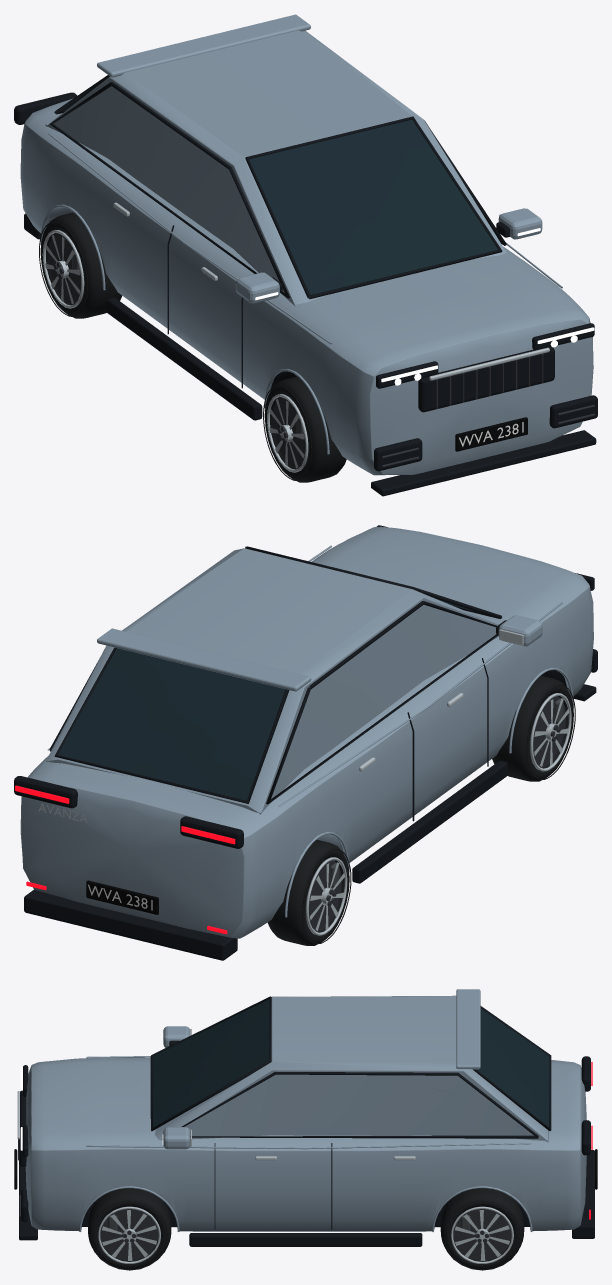
The model's file is avanza.glb.
3 renders of one model, top to bottom at view 1: azimuth 30°, elevation 25°; view 2: azimuth 150°, elevation 25°; view 3: azimuth 270°, elevation 25°, orthographic. The views are drawn at different scales.
Visible parts, largest first — view 1: body__Automotive clearcoat, body__Solar glass, body__Satin black trim, wheel_FL.001__Tyre rubber, wheel_RL.001__Tyre rubber, wheel_FL.001__Machined aluminium, wheel_RL.001__Machined aluminium, wheel_FL.001__Graphite alloy, wheel_RL.001__Graphite alloy, body__Graphite alloy, body__Black registration plate, body__Machined aluminium (+1 smaller); view 2: body__Automotive clearcoat, body__Solar glass, body__Satin black trim, wheel_RL.001__Tyre rubber, wheel_FL.001__Tyre rubber, wheel_FL.001__Machined aluminium, wheel_RL.001__Machined aluminium, wheel_FL.001__Graphite alloy, body__Black registration plate, wheel_RL.001__Graphite alloy, body__Red LED optics, body__Machined aluminium; view 3: body__Automotive clearcoat, body__Solar glass, body__Satin black trim, wheel_FR.001__Tyre rubber, wheel_RR.001__Tyre rubber, wheel_FR.001__Graphite alloy, wheel_RR.001__Graphite alloy, wheel_FR.001__Machined aluminium, wheel_RR.001__Machined aluminium, body__Machined aluminium.
Part boxes in pixels (<box>): body__Automotive clearcoat: <box>20,14,593,475</box>; body__Solar glass: <box>63,94,499,297</box>; body__Satin black trim: <box>14,75,597,496</box>; wheel_FL.001__Tyre rubber: <box>263,376,346,482</box>; wheel_RL.001__Tyre rubber: <box>39,212,121,318</box>; wheel_FL.001__Machined aluminium: <box>267,394,308,472</box>; wheel_RL.001__Machined aluminium: <box>42,230,84,308</box>; wheel_FL.001__Graphite alloy: <box>272,397,308,468</box>; wheel_RL.001__Graphite alloy: <box>48,232,84,304</box>; body__Graphite alloy: <box>382,353,594,467</box>; body__Black registration plate: <box>455,417,527,451</box>; body__Machined aluminium: <box>113,202,549,380</box>; body__Automotive clearcoat: <box>20,526,593,938</box>; body__Solar glass: <box>58,598,471,800</box>; body__Satin black trim: <box>14,525,597,960</box>; wheel_RL.001__Tyre rubber: <box>267,839,351,945</box>; wheel_FL.001__Tyre rubber: <box>492,675,575,781</box>; wheel_FL.001__Machined aluminium: <box>530,693,571,771</box>; wheel_RL.001__Machined aluminium: <box>306,857,347,935</box>; wheel_FL.001__Graphite alloy: <box>529,696,565,767</box>; body__Black registration plate: <box>86,880,158,914</box>; wheel_RL.001__Graphite alloy: <box>305,860,341,931</box>; body__Red LED optics: <box>15,785,235,934</box>; body__Machined aluminium: <box>38,629,523,823</box>; body__Automotive clearcoat: <box>25,989,586,1232</box>; body__Solar glass: <box>153,999,549,1127</box>; body__Satin black trim: <box>19,996,594,1246</box>; wheel_FR.001__Tyre rubber: <box>88,1188,171,1270</box>; wheel_RR.001__Tyre rubber: <box>440,1188,524,1270</box>; wheel_FR.001__Graphite alloy: <box>100,1209,158,1260</box>; wheel_RR.001__Graphite alloy: <box>453,1209,511,1260</box>; wheel_FR.001__Machined aluminium: <box>98,1206,160,1263</box>; wheel_RR.001__Machined aluminium: <box>451,1206,513,1263</box>; body__Machined aluminium: <box>17,1029,415,1160</box>.
Size of the model in its own units: 2.08 by 1.68 by 4.55.
